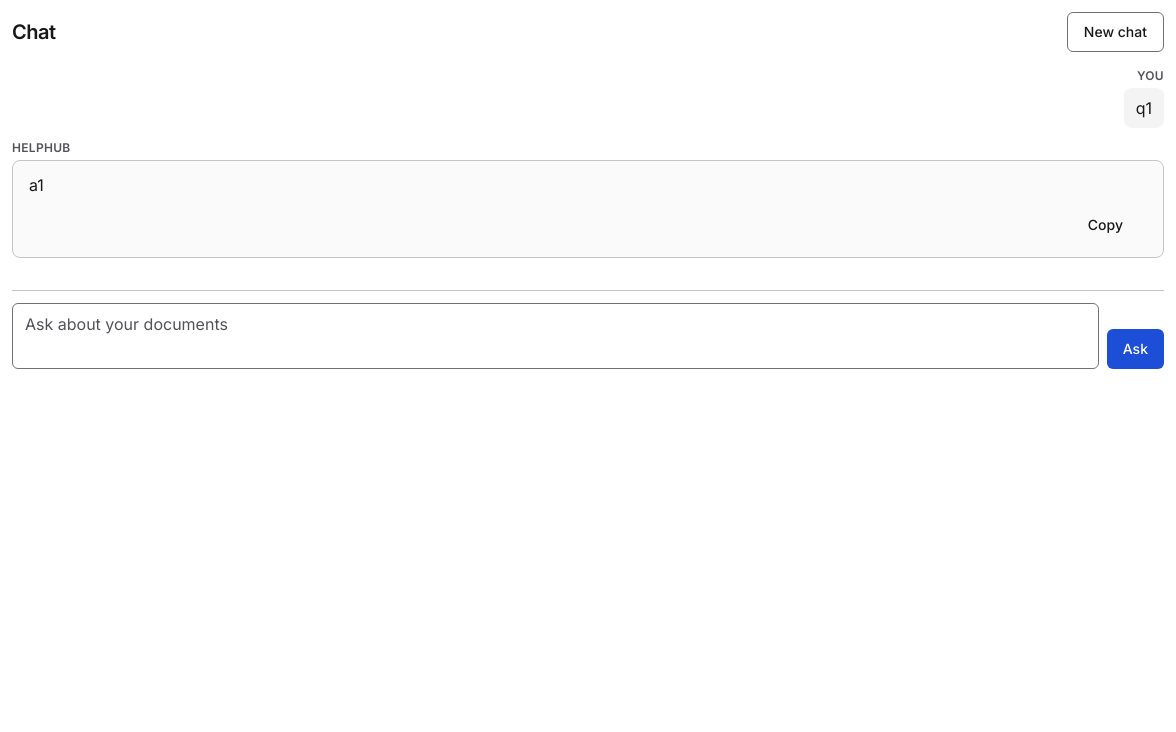
it: the restored chat continues the same conversation with the next turn id
Expected: the text "a1" is shown, [29,175,44,195]
In the text box named "Your question": [555, 336] box [12,303,1099,369], type "q2"
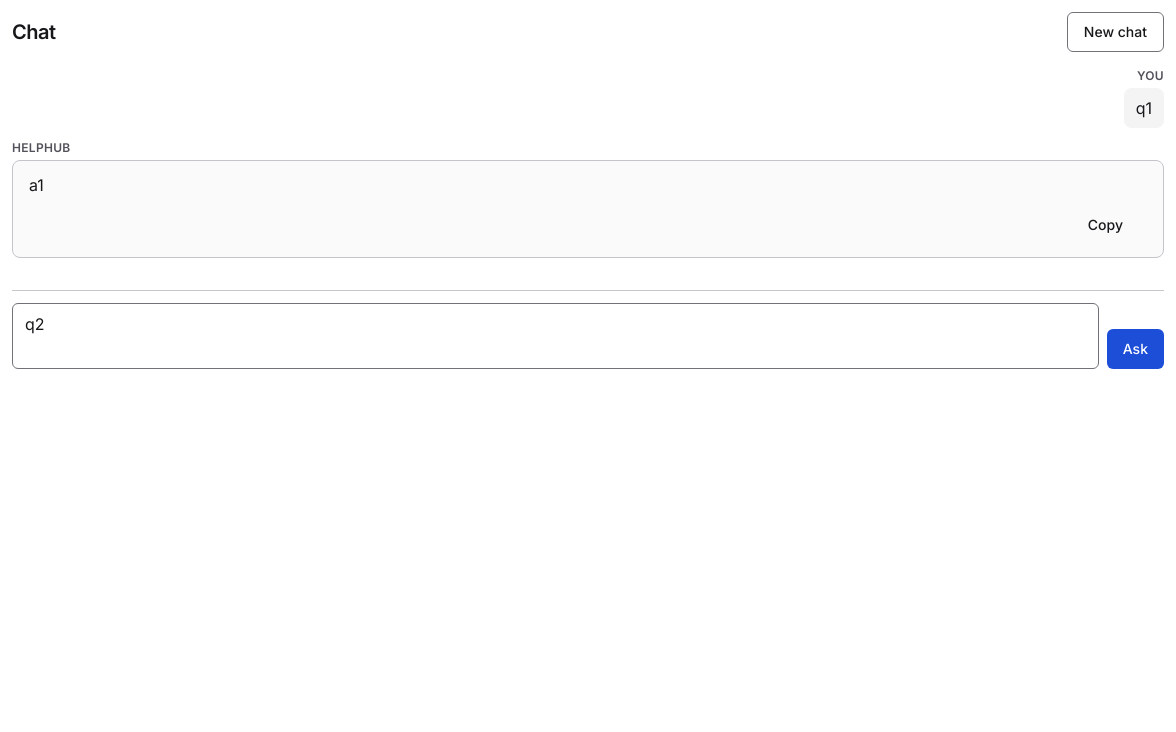
Submit the form named "Ask a question"
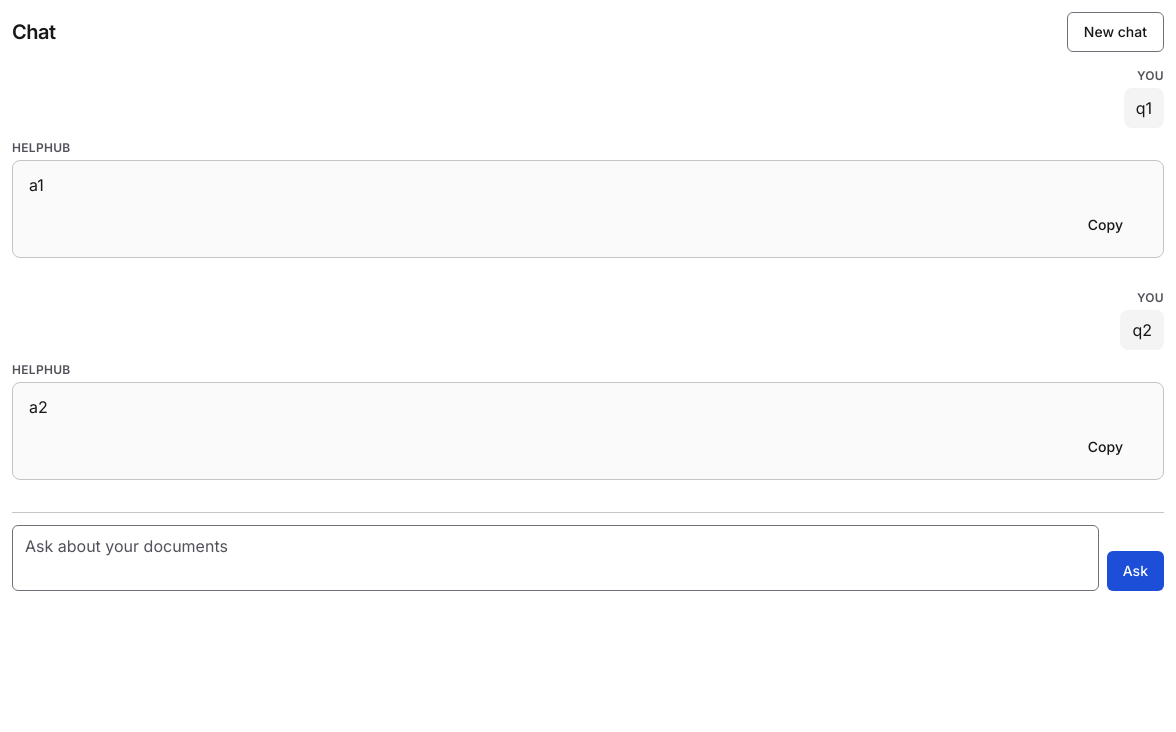
Expected: the text "q1" is shown, [1124,88,1164,128]
Expected: the text "a2" is shown, [29,397,48,417]
Expected: the text "q1" is shown 2 times, [1124,88,1164,128]; [1120,310,1164,350]
